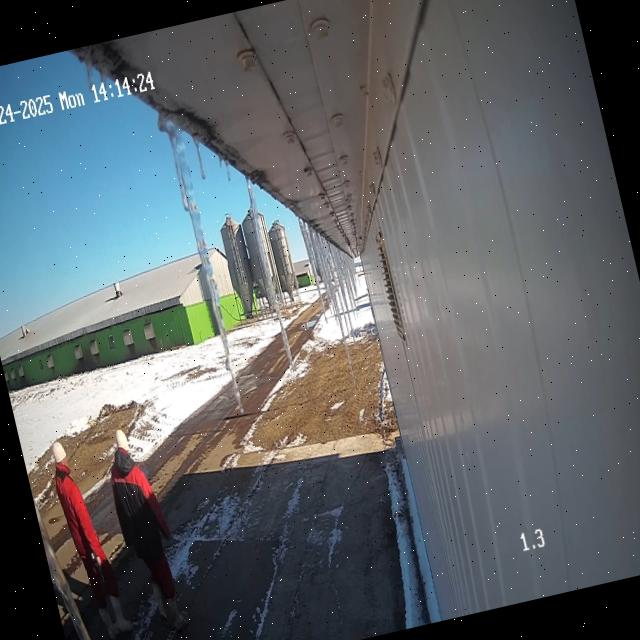Red uniform: (110, 429, 188, 629), (52, 441, 131, 638)
